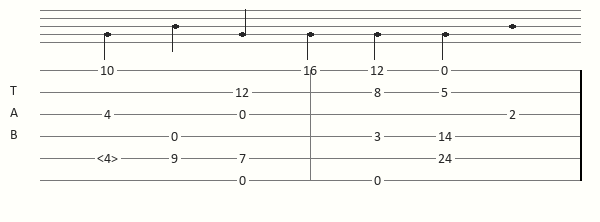0: (171, 130, 182, 143), (239, 174, 250, 187), (239, 108, 250, 121), (374, 174, 385, 187), (441, 64, 452, 77)
10: (100, 64, 118, 77)
12: (235, 86, 253, 99), (370, 64, 388, 77)
14: (438, 130, 456, 143)
16: (303, 64, 321, 77)
2: (509, 108, 520, 121)
24: (438, 152, 456, 165)
3: (374, 130, 385, 143)
4: (104, 108, 115, 121)
5: (441, 86, 452, 99)
7: (239, 152, 250, 165)
8: (374, 86, 385, 99)
9: (171, 152, 182, 165)
harmonic: (97, 152, 122, 165)
